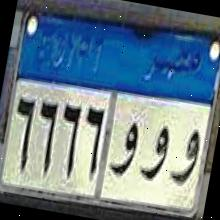6: (3, 90, 41, 174), (50, 96, 86, 182), (73, 101, 110, 184), (28, 92, 62, 175)
waw: (166, 119, 204, 197), (107, 113, 143, 179), (138, 123, 174, 188)
